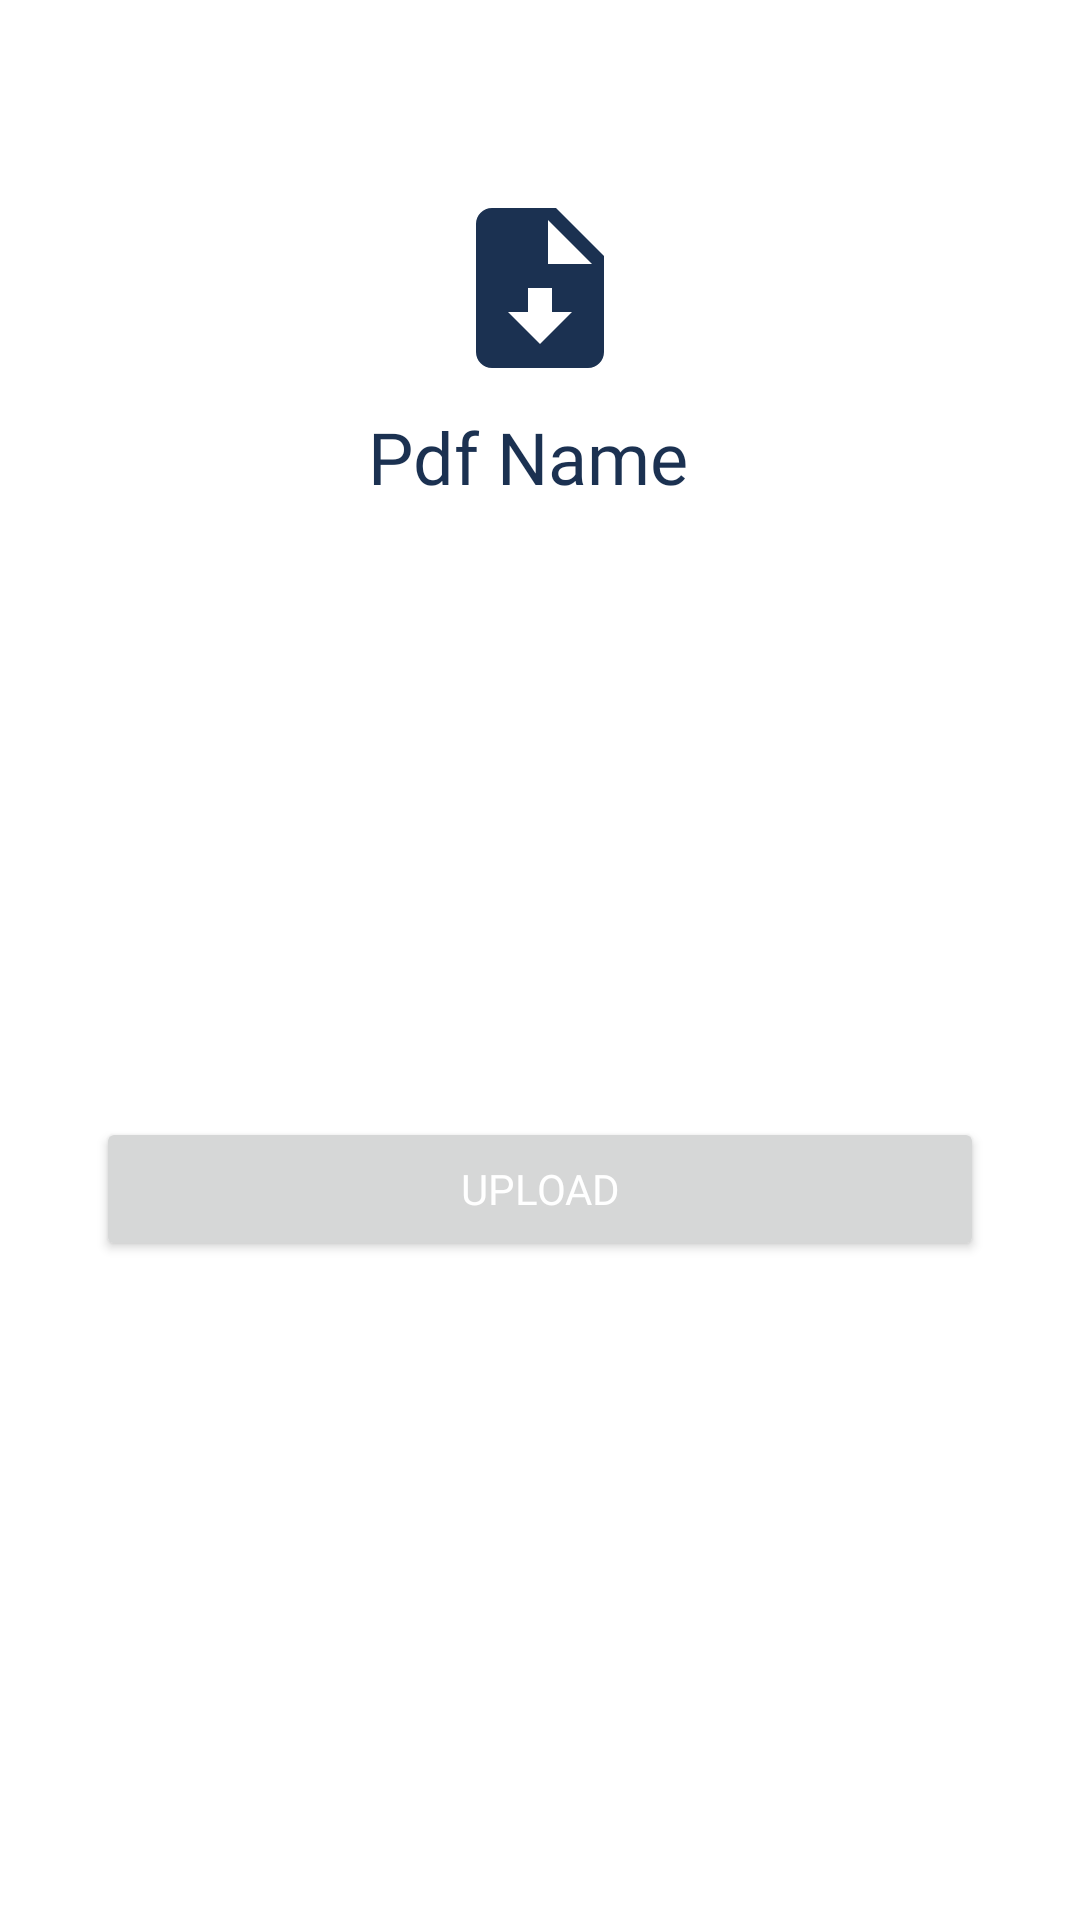

Icon bounding boxes for this 1080x1920 phone screenshot, format (x1, y1, x2, y2):
file download: (476, 208, 604, 368)
